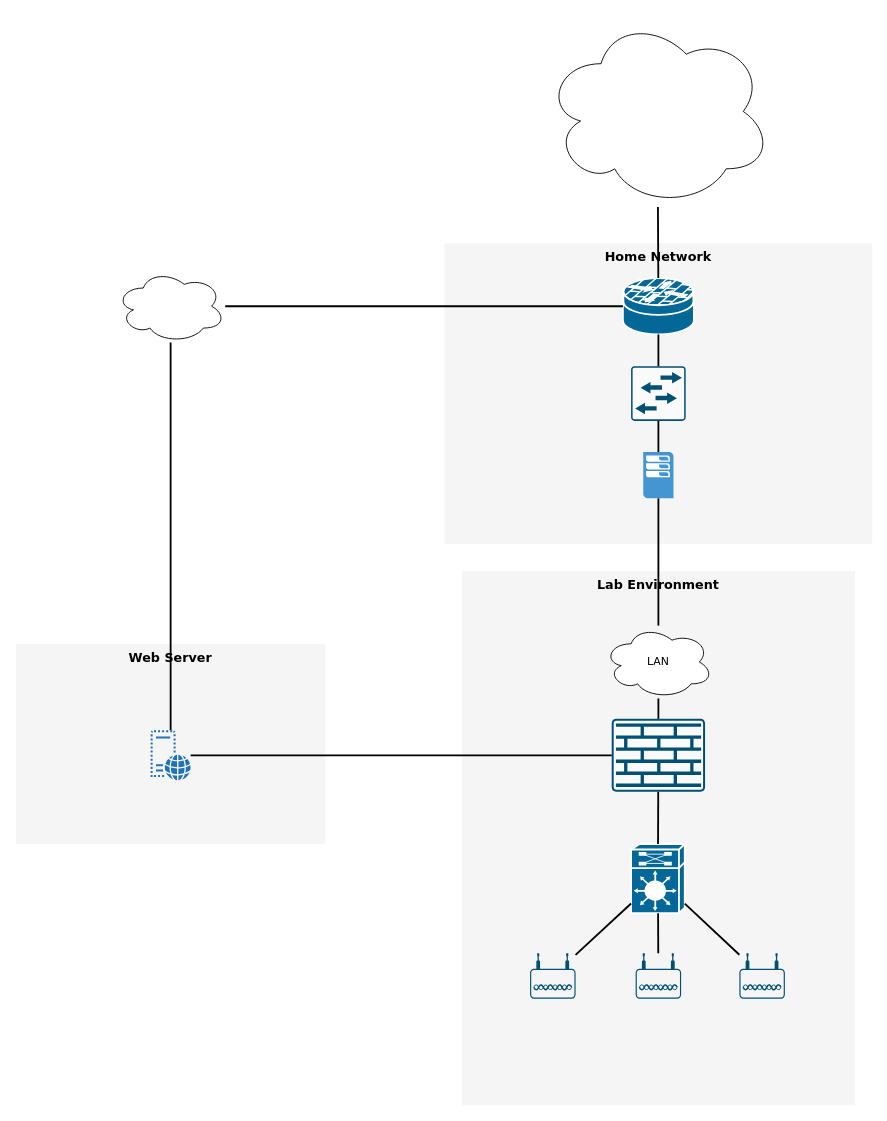
This 887x1121 diagram has some shape labels left out. The shapes that lost their labels are listed below. From the top down, each one's centre as x and y in pixels, then its label:
At (x=657, y=111): "Internet".
At (x=170, y=306): "Cloud".
